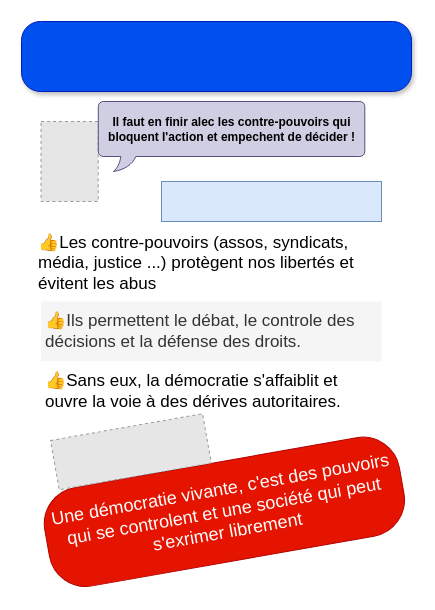
Image size: 435x610. Some labels were removed from this diagram. Grey dashed boxes stand in for pictures. Each missing label, with the centre of its shape:
"DEMOCRATIE des contre-pouvoirs indispendsables" goes at [217,57].
"La réalité :" goes at [271,201].
